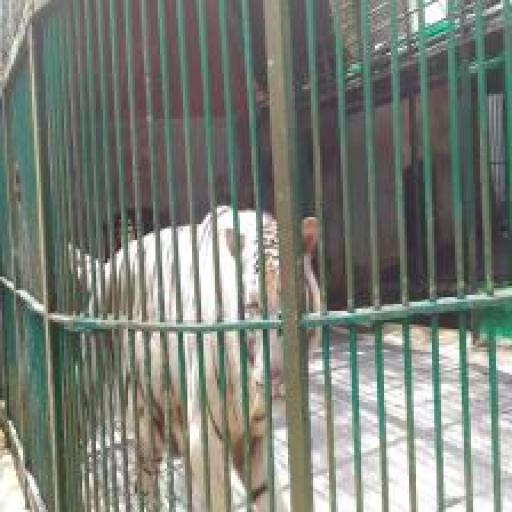Tiger: (66, 203, 325, 512)
